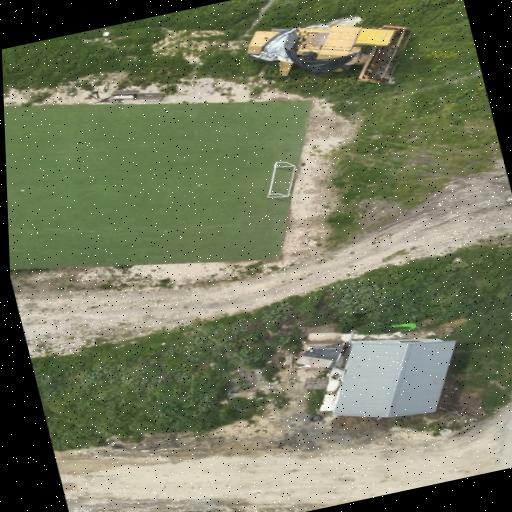harvester: (248, 24, 410, 82)
